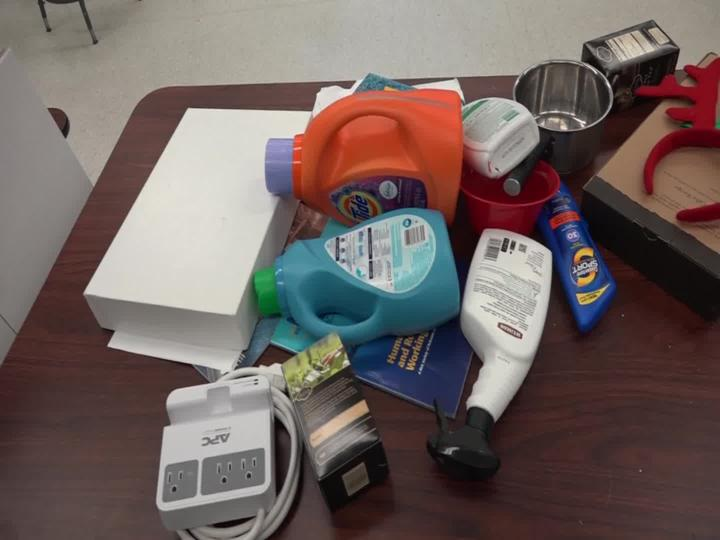tide: (252, 70, 475, 232)
